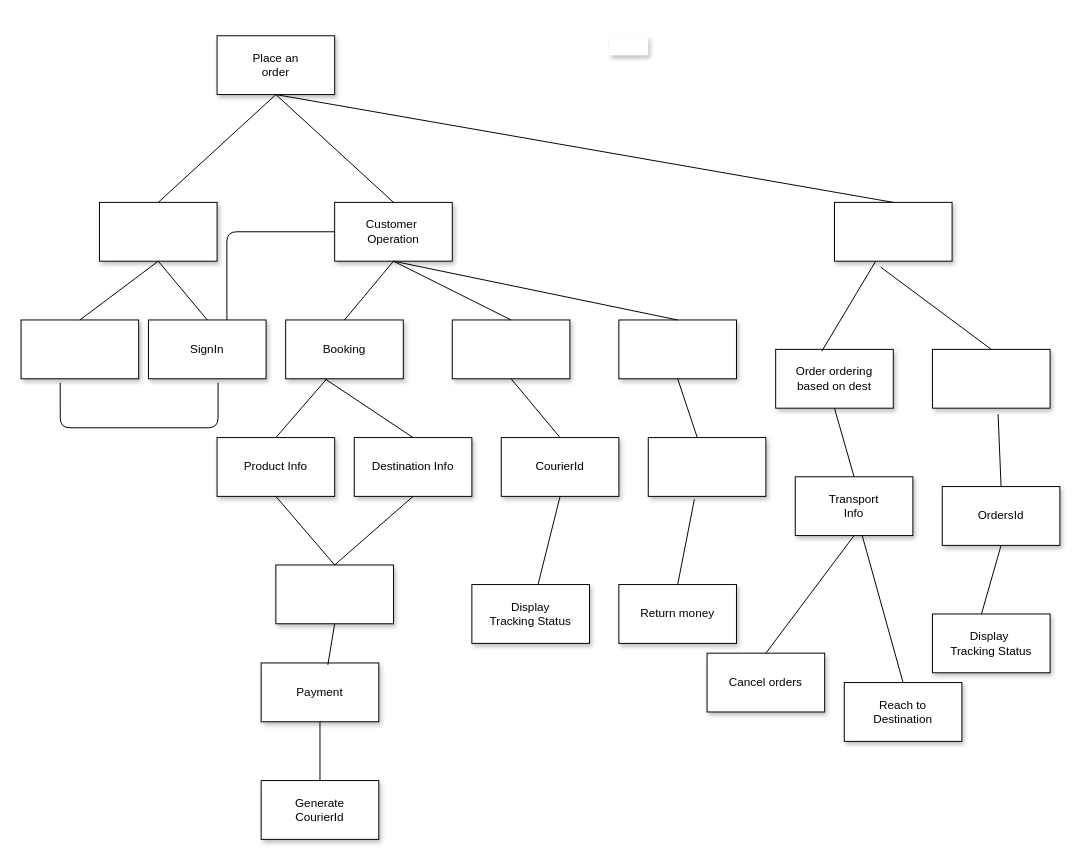
This 1083x863 diagram has some shape labels left out. Here are the shapes that lost their labels. From the top down, the centre of each, then its label:
the point at 629,46: Architecture Design
the point at 159,232: Customer Identification
the point at 894,232: Delivery Control
the point at 80,350: Register
the point at 511,350: Tracking
the point at 678,350: Cancel order
the point at 992,379: Tracking Status
the point at 707,468: CourierId Validation
the point at 335,595: Booking Validation
